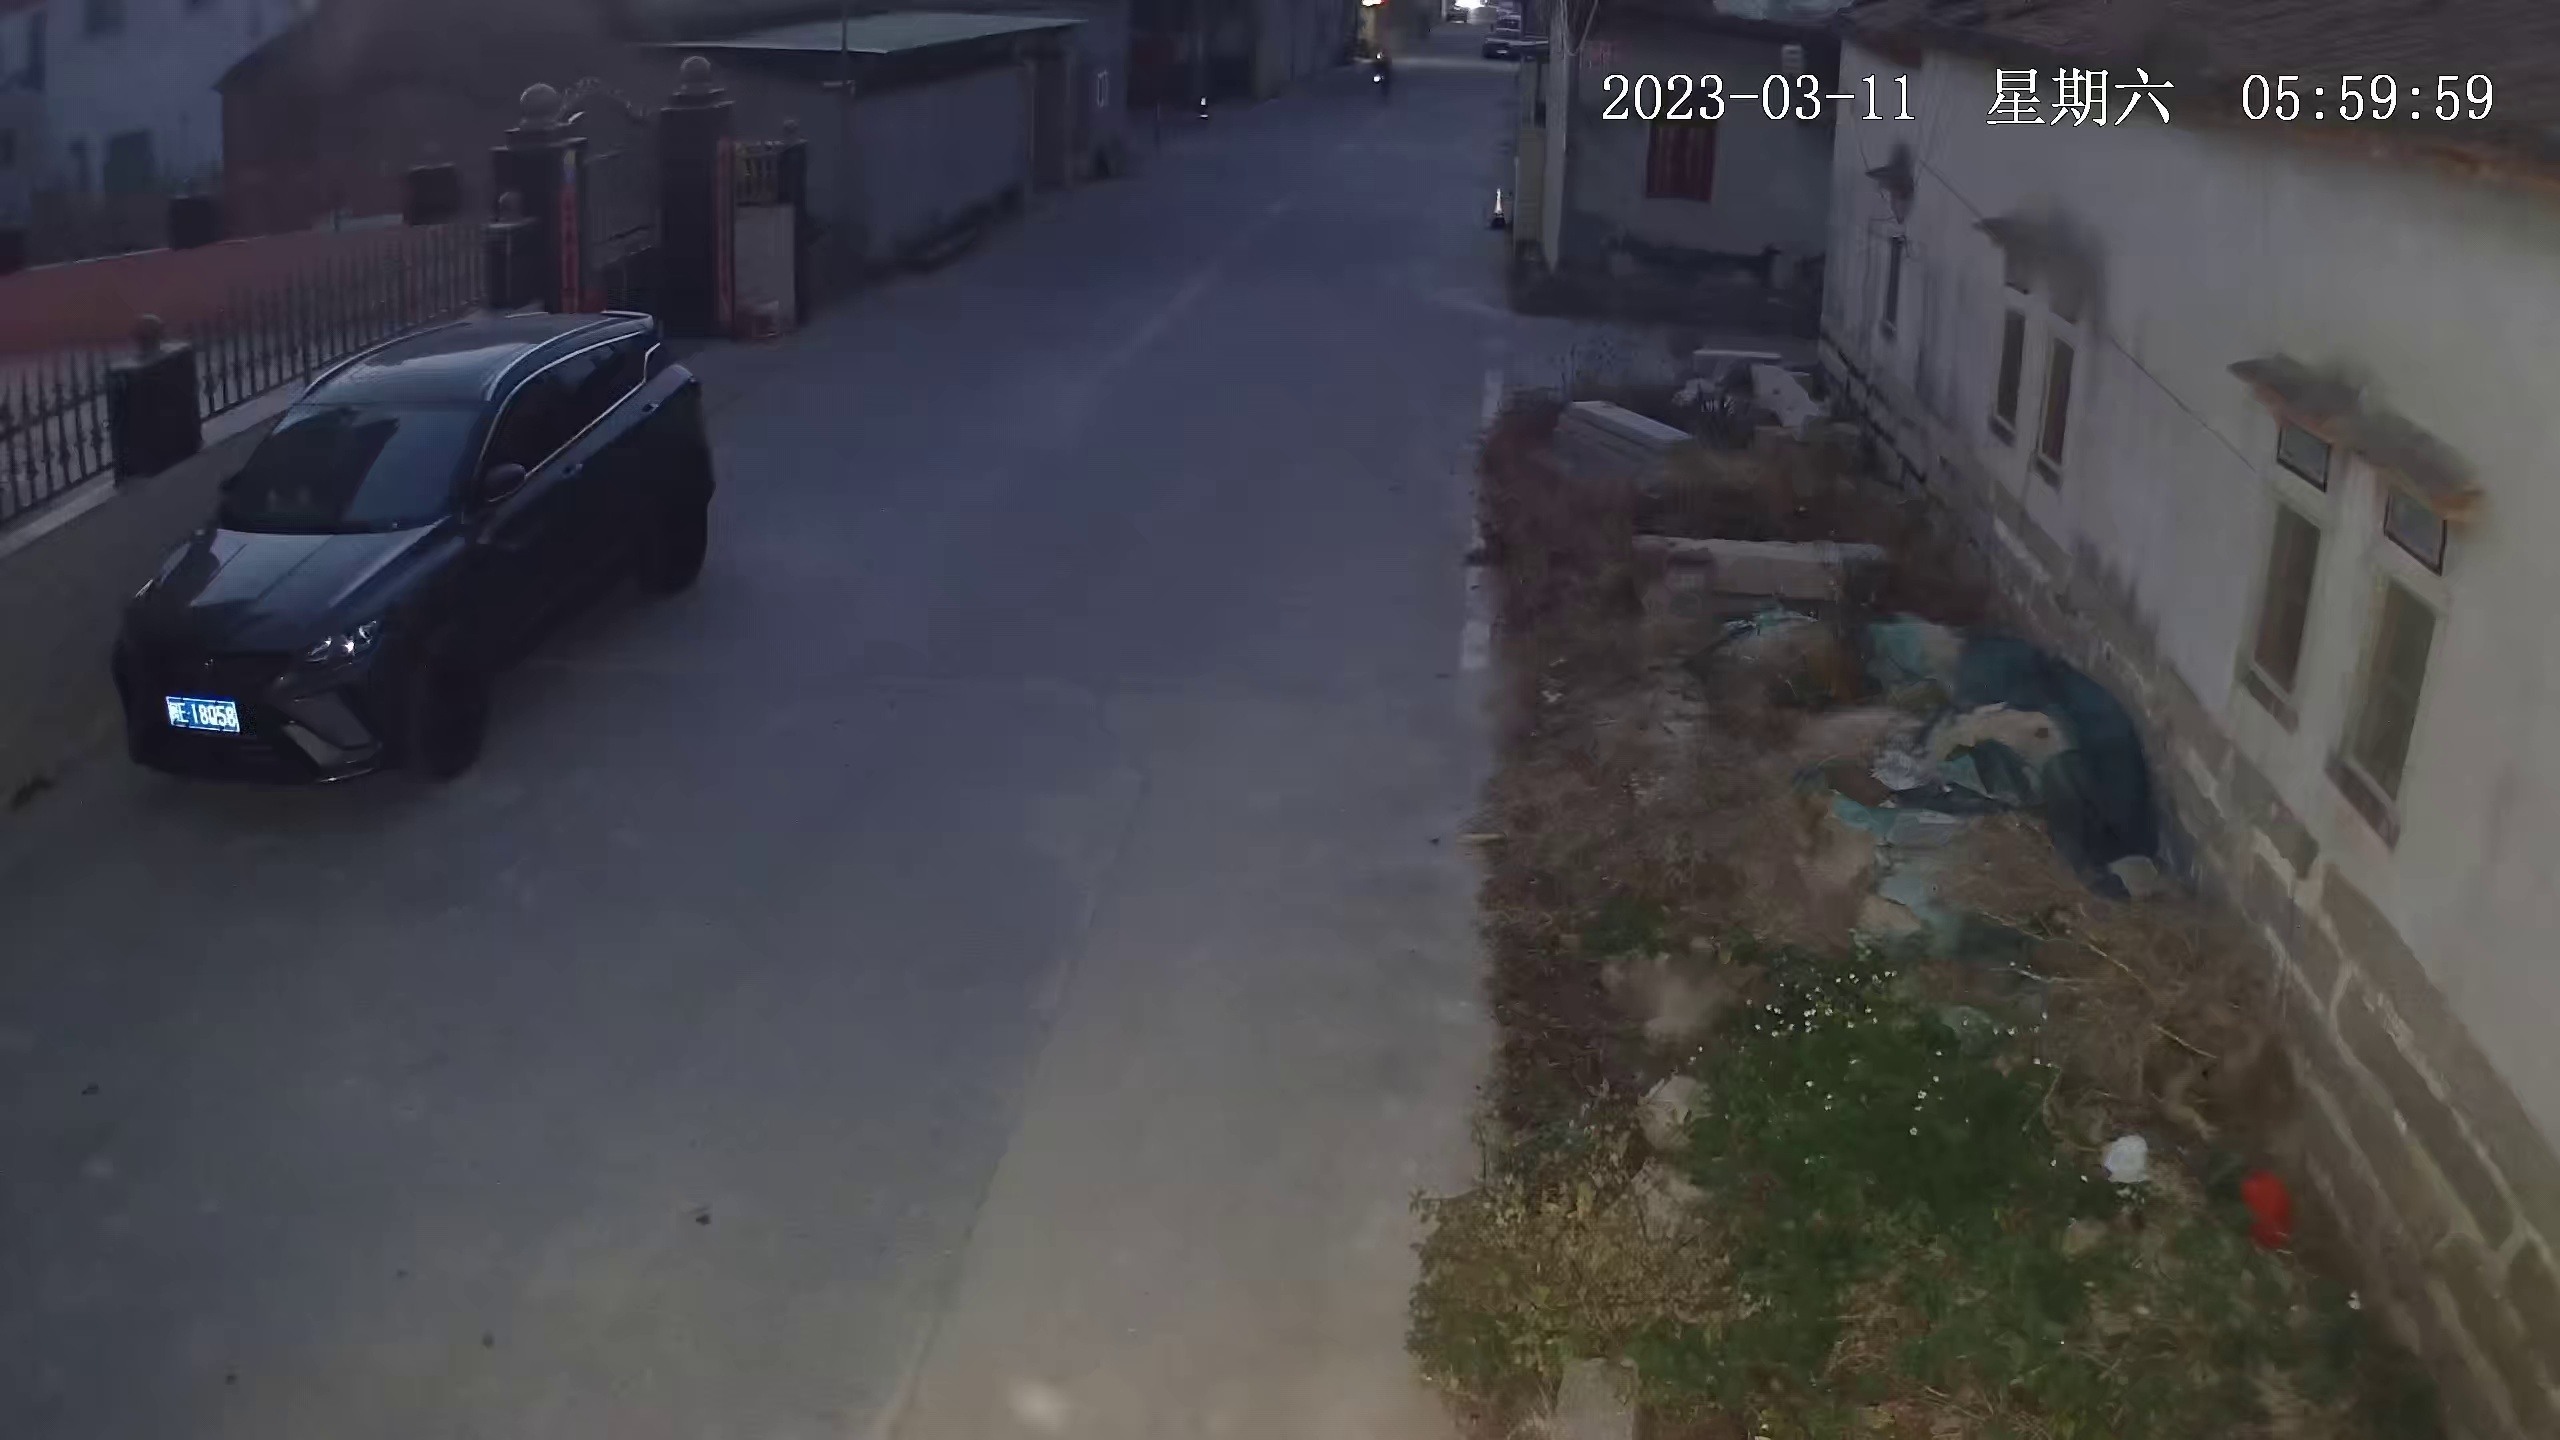sedan: (1484, 18, 1519, 60)
suv: (104, 304, 712, 798)
